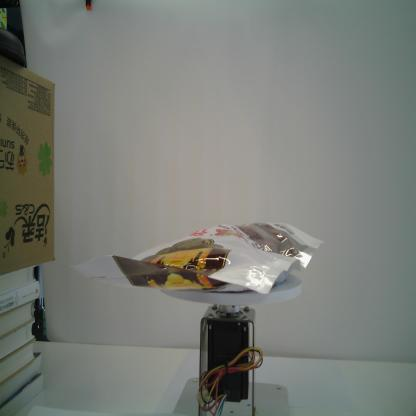Dried Food: (69, 222, 324, 294)
